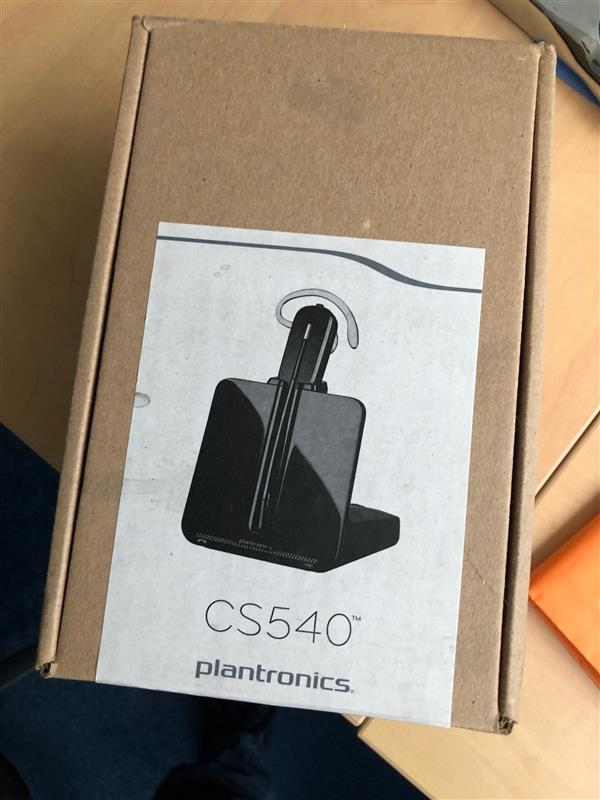label: (92, 220, 493, 738)
package: (40, 17, 552, 738)
